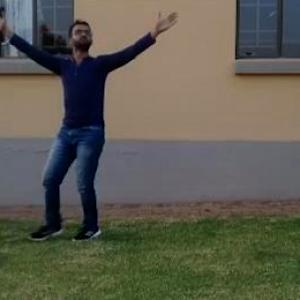takeoff: (1, 18, 173, 236)
